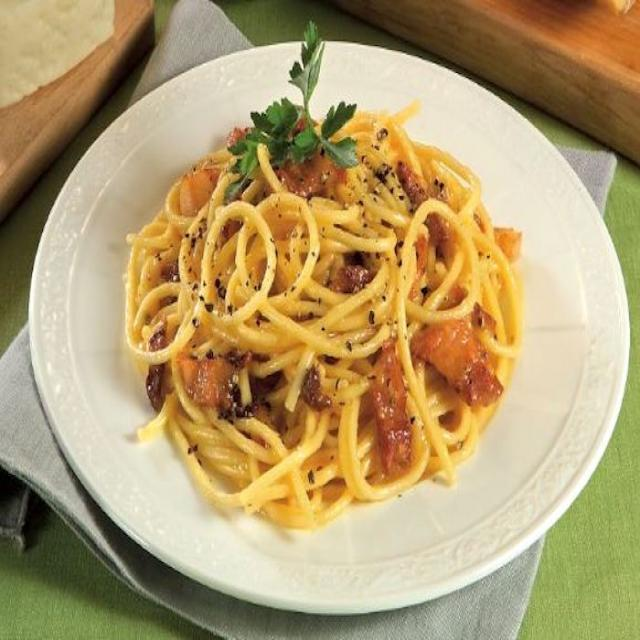Pasta with carbonara sauce: (106, 52, 570, 528)
